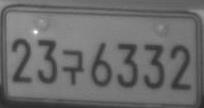2: (170, 44, 191, 90), (11, 37, 32, 82)
3: (143, 43, 165, 89), (36, 39, 57, 84), (117, 43, 138, 87)
6: (90, 41, 112, 87)
구: (61, 49, 84, 85)
